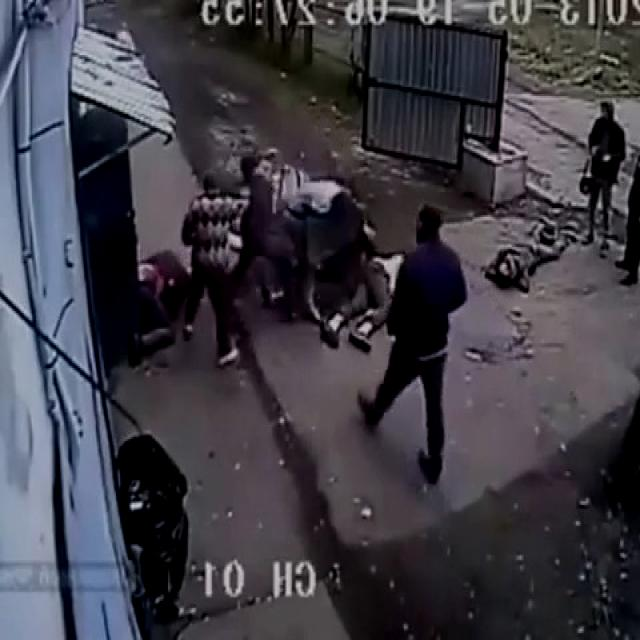fight: (236, 149, 362, 316)
